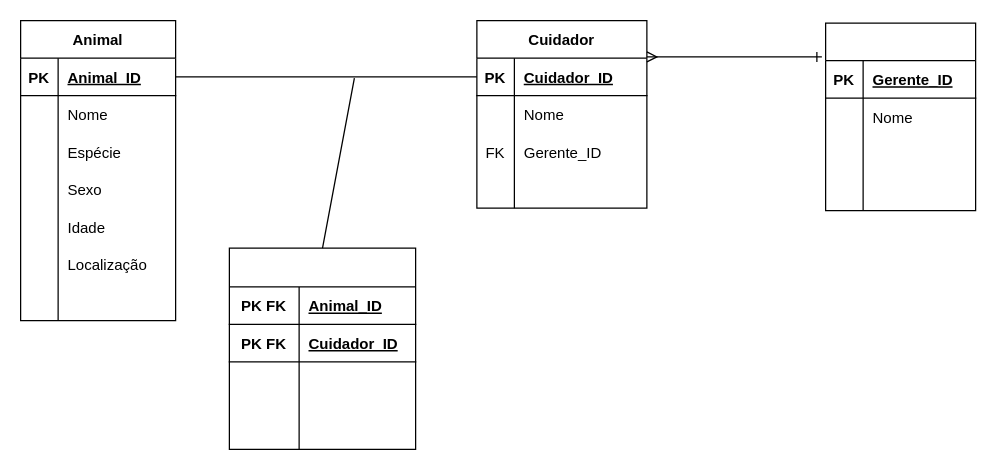
Some shapes in this 996 by 470 pixel diagram are drawn without their labels. Here are the shapes that lost their labels. From the top down, the box of each, then its label:
(824, 22, 976, 211): Gerentes
(228, 247, 416, 449): Cuidador_animal
